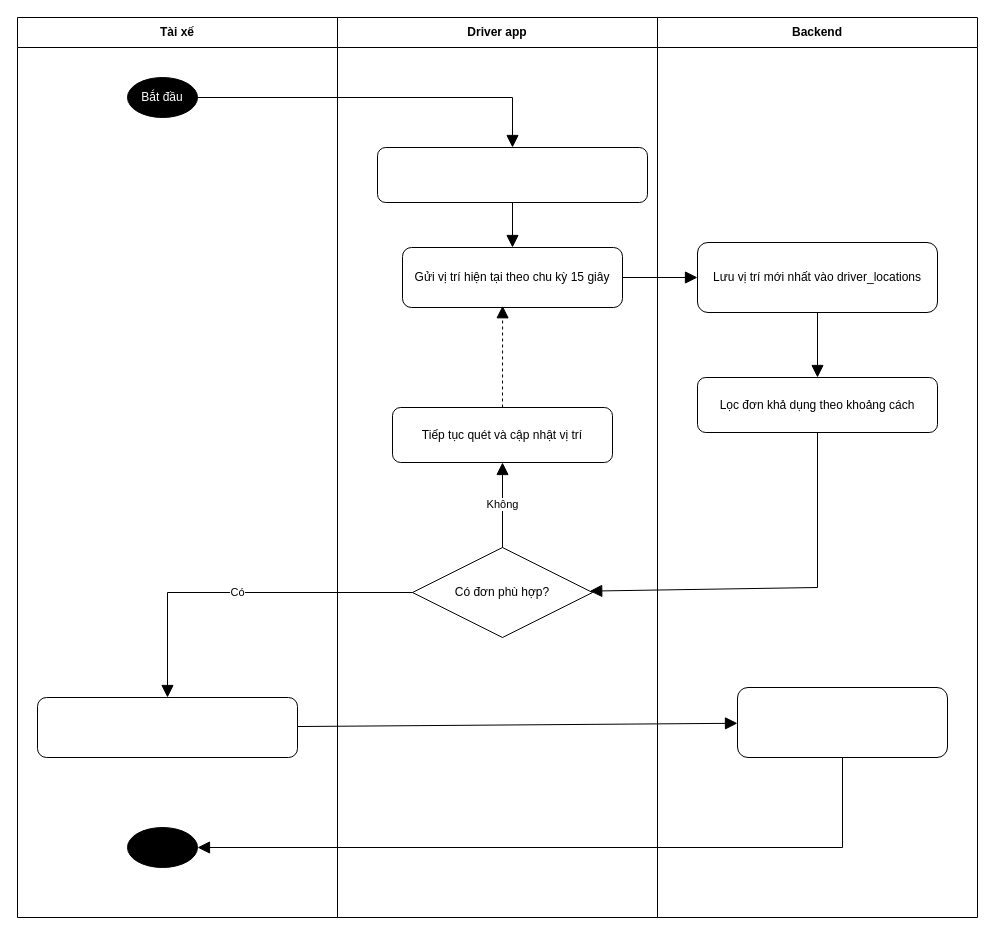
Some shapes in this 995 by 935 pixel diagram are drawn without their labels. The centre of each missing label's shape, as x and y in pixels:
Chấp nhận đơn và chuyển sang giao hàng: point 167,727
Cập nhật trạng thái: đã lấy hàng, đang giao, đã giao: point 842,722
Kết thúc: point 162,847
Đăng nhập và bật online: point 512,174
